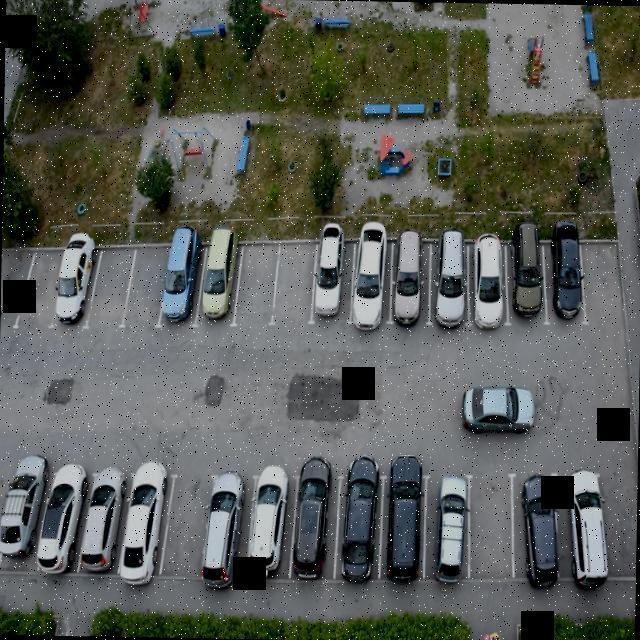space-empty: (467, 476, 514, 576), (166, 475, 209, 582), (17, 241, 64, 337), (128, 241, 170, 334), (234, 242, 279, 328), (90, 245, 135, 331), (274, 241, 316, 330), (0, 244, 28, 330)
space-occupied: (560, 468, 610, 582), (294, 472, 341, 581), (511, 480, 563, 578), (211, 474, 253, 588), (422, 481, 471, 575), (337, 478, 379, 587), (85, 472, 126, 579), (382, 479, 425, 581), (45, 477, 88, 579), (254, 473, 293, 582), (312, 237, 356, 330), (4, 477, 44, 577), (160, 240, 203, 333), (54, 246, 97, 339), (126, 478, 166, 576), (544, 243, 587, 332), (350, 237, 392, 326), (390, 236, 431, 327), (199, 245, 241, 329), (507, 240, 545, 331), (430, 236, 466, 330), (469, 243, 505, 334)
